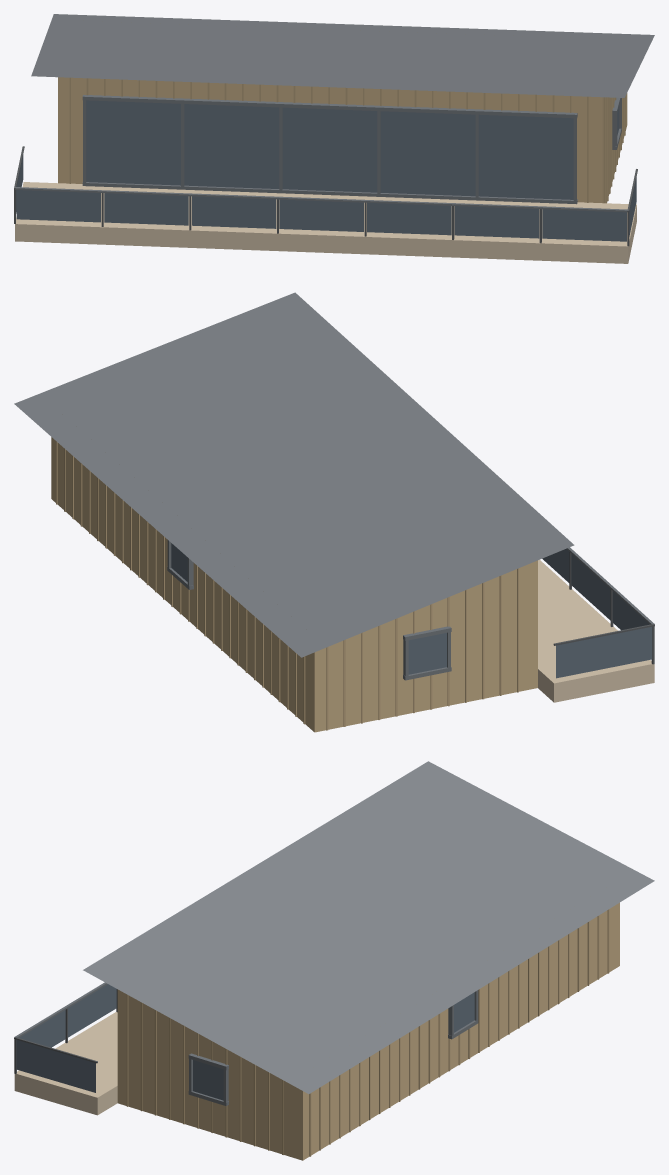
3 views of the same model, one above another, from view 1: azimuth 30°, elevation 25°; view 2: azimuth 150°, elevation 25°; view 3: azimuth 270°, elevation 25° (orthographic). The views are drawn at different scales.
Parts seen in each view (by area): view 1: slate, larch, door_wood, slate_dk, window_glass_012, window_glass_013, window_glass_011, window_glass_014, window_glass_010, door_wood_p, window_glass_006, window_glass_005 (+6 smaller); view 2: slate, door_wood, door_wood_p, larch, window_glass_008, slate_dk, window_glass_016, window_glass_002, window_glass_001, pipe; view 3: slate, door_wood, door_wood_p, larch, window_glass_009, slate_dk, window_glass_006, window_glass_017, window_glass_007, window_glass_015.
Part boxes in pixels (left/top/right/bottom): slate: left=31, top=14, right=654, bottom=97; larch: left=15, top=182, right=636, bottom=263; door_wood: left=58, top=77, right=627, bottom=203; slate_dk: left=15, top=95, right=628, bottom=212; window_glass_012: left=282, top=107, right=377, bottom=192; window_glass_013: left=380, top=111, right=475, bottom=196; window_glass_011: left=184, top=104, right=279, bottom=188; window_glass_014: left=478, top=114, right=573, bottom=199; window_glass_010: left=86, top=100, right=180, bottom=185; door_wood_p: left=69, top=77, right=625, bottom=203; window_glass_006: left=454, top=206, right=539, bottom=238; window_glass_005: left=367, top=202, right=451, bottom=235; slate: left=14, top=292, right=574, bottom=657; door_wood: left=51, top=437, right=537, bottom=732; door_wood_p: left=56, top=441, right=518, bottom=730; larch: left=538, top=560, right=654, bottom=702; window_glass_008: left=556, top=627, right=652, bottom=678; slate_dk: left=167, top=540, right=654, bottom=680; window_glass_016: left=408, top=633, right=446, bottom=674; window_glass_002: left=571, top=554, right=610, bottom=620; window_glass_001: left=612, top=591, right=649, bottom=630; pipe: left=553, top=552, right=654, bottom=664; slate: left=83, top=761, right=654, bottom=1093; door_wood: left=117, top=902, right=619, bottom=1160; door_wood_p: left=126, top=909, right=609, bottom=1156; larch: left=14, top=1012, right=117, bottom=1115; window_glass_009: left=16, top=1040, right=95, bottom=1092; slate_dk: left=15, top=982, right=478, bottom=1106; window_glass_006: left=68, top=984, right=116, bottom=1037; window_glass_017: left=193, top=1060, right=223, bottom=1100; window_glass_007: left=19, top=1010, right=65, bottom=1047; window_glass_015: left=454, top=992, right=474, bottom=1032.
Size of the model in its own units: 18.29 by 3.84 by 16.45.
